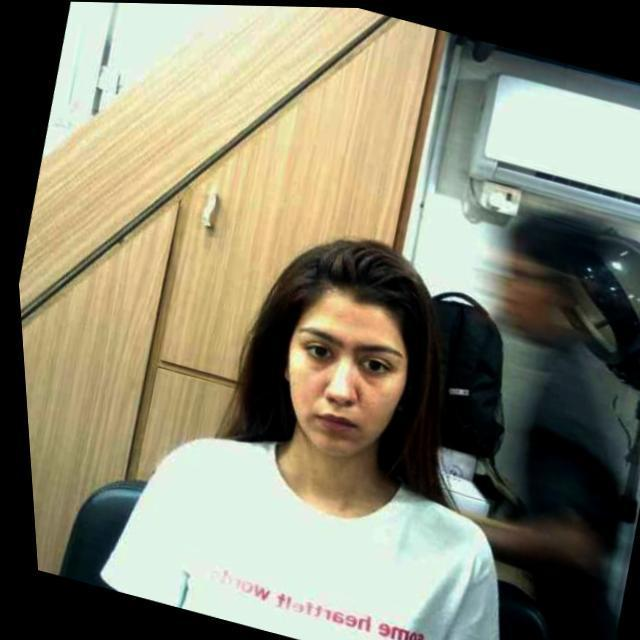puffy_eyes: (351, 364, 377, 385), (303, 355, 330, 370)
